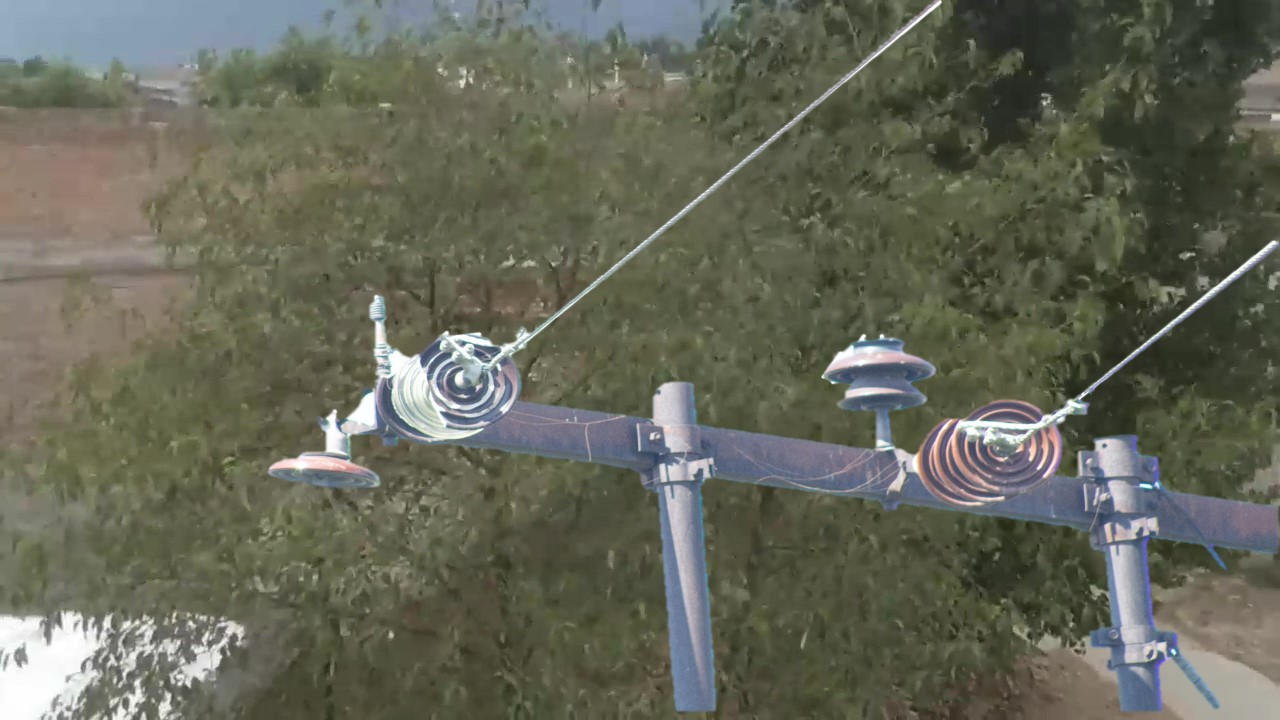defect_disc: (413, 334, 519, 439)
insulator_disc: (948, 397, 1068, 492), (263, 421, 383, 498)
